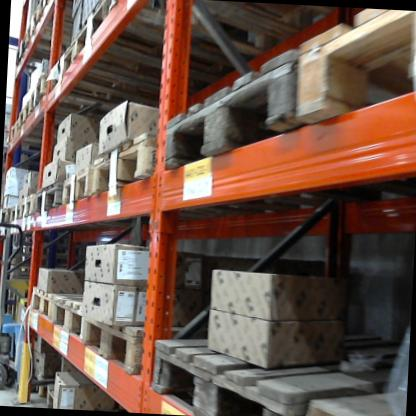pallet: (147, 325, 407, 416), (160, 36, 301, 182), (73, 0, 293, 90), (291, 5, 416, 136), (46, 31, 177, 114), (81, 303, 182, 386), (28, 72, 144, 126), (91, 119, 171, 195), (8, 32, 100, 82), (16, 88, 100, 142), (7, 119, 117, 155), (304, 381, 407, 416), (24, 6, 96, 56), (44, 291, 95, 338), (30, 280, 77, 324), (33, 173, 73, 222), (61, 156, 98, 207), (33, 0, 86, 21), (17, 189, 40, 221), (28, 376, 57, 401), (5, 199, 24, 229), (0, 199, 13, 227), (44, 383, 59, 406)
